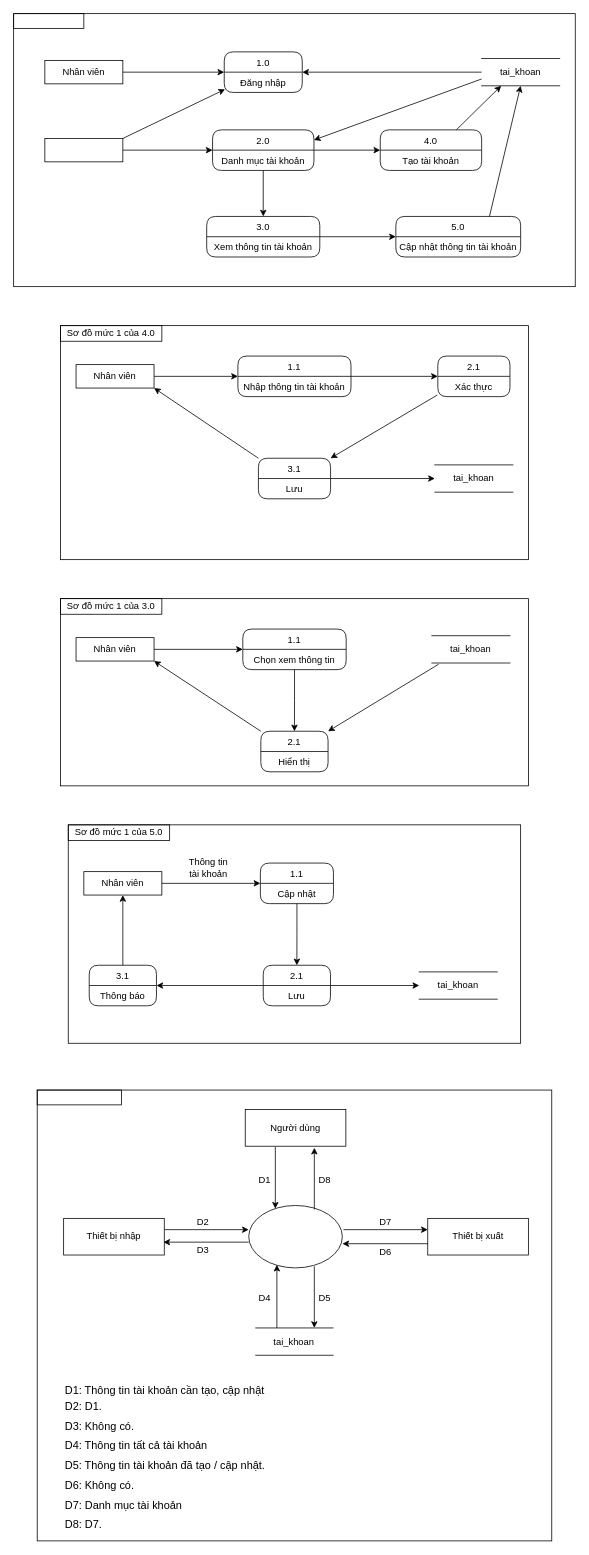
The diagram is 589 pixels wide and 1555 high, and some of its shapes have lost their labels. The centre of each missing label's shape, as x and y in pixels:
"Quản lí" goes at (83,150).
"Quản lí hệ thống" goes at (295,1236).
"Sơ đồ mức 0" goes at (48,20).
"Sơ đồ tổng quát" goes at (78,1097).
